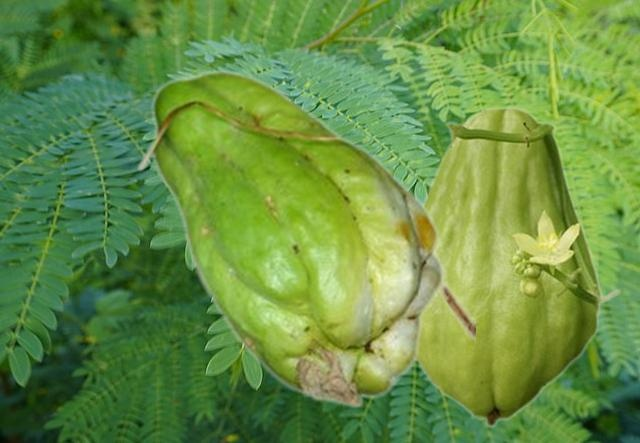sayote: (135, 69, 474, 408), (417, 106, 621, 427)
